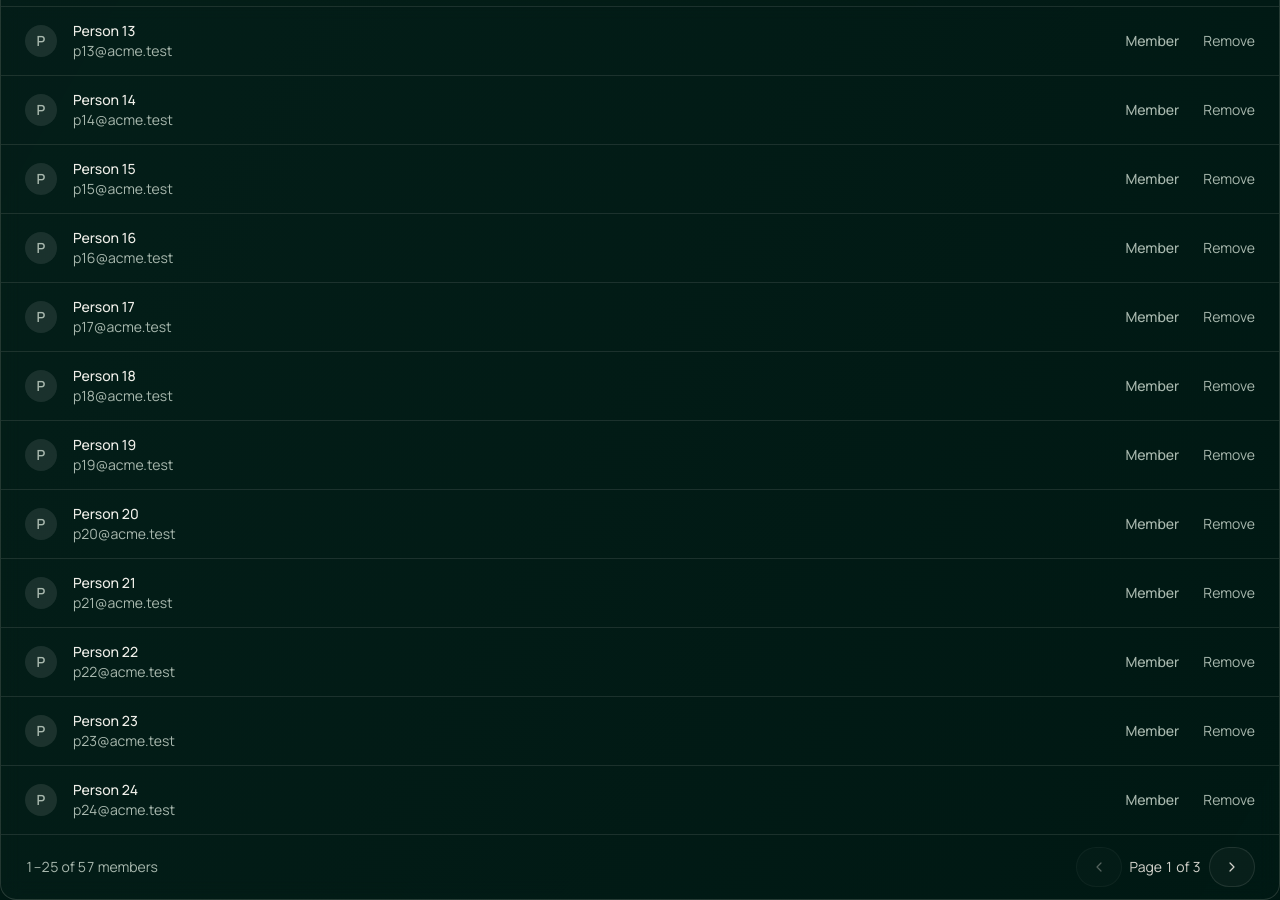
Test: Members list › lists every member a page at a time, not only the first 50
The width and height of the screenshot is (1280, 900).
(page scrolled)
Expected: the text "Page 1 of 3" is shown, left=1130, top=857, right=1201, bottom=877
Click the button named "Next page": (1232, 867) left=1209, top=847, right=1255, bottom=887
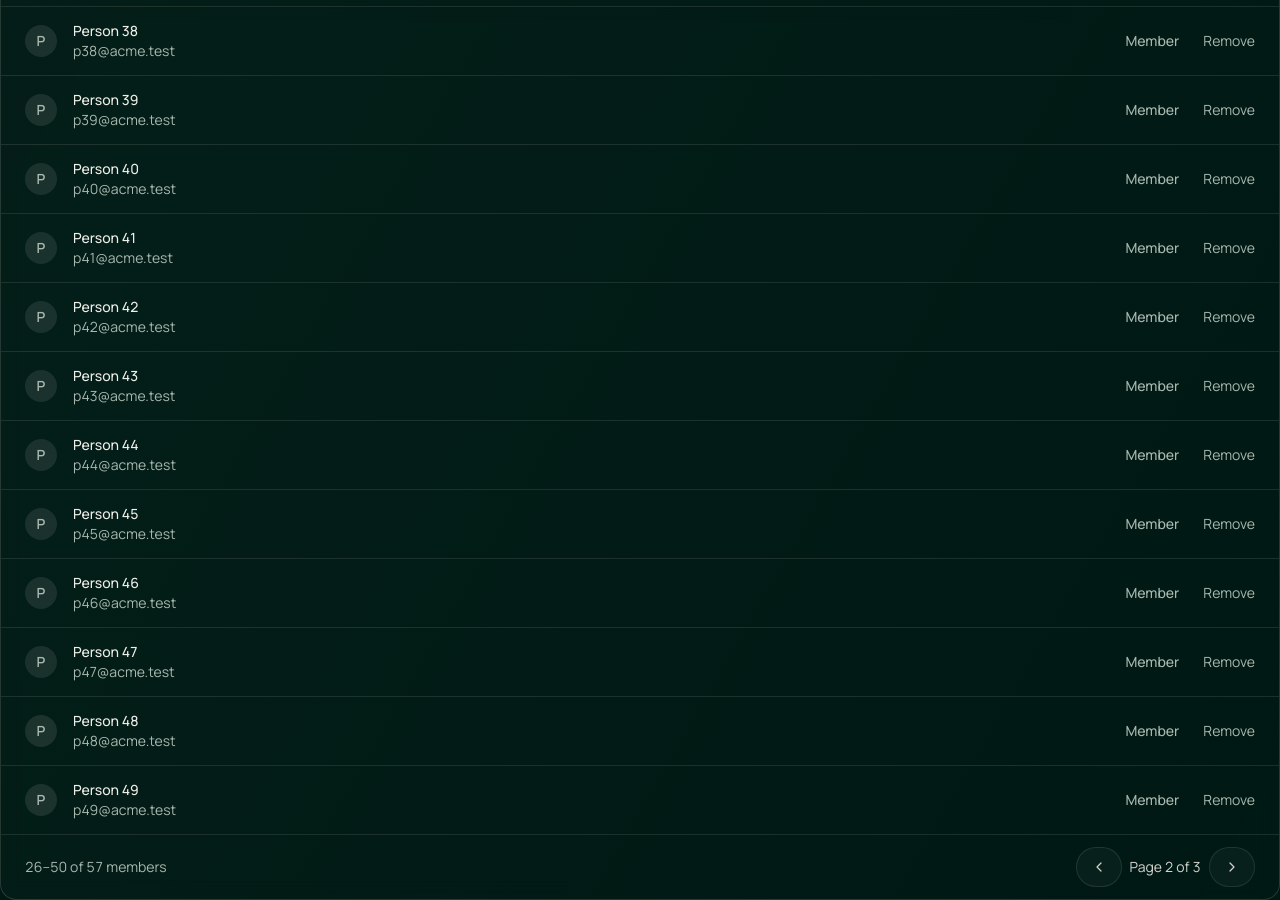
Click the button named "Next page": (1232, 867) left=1209, top=847, right=1255, bottom=887
(page scrolled)
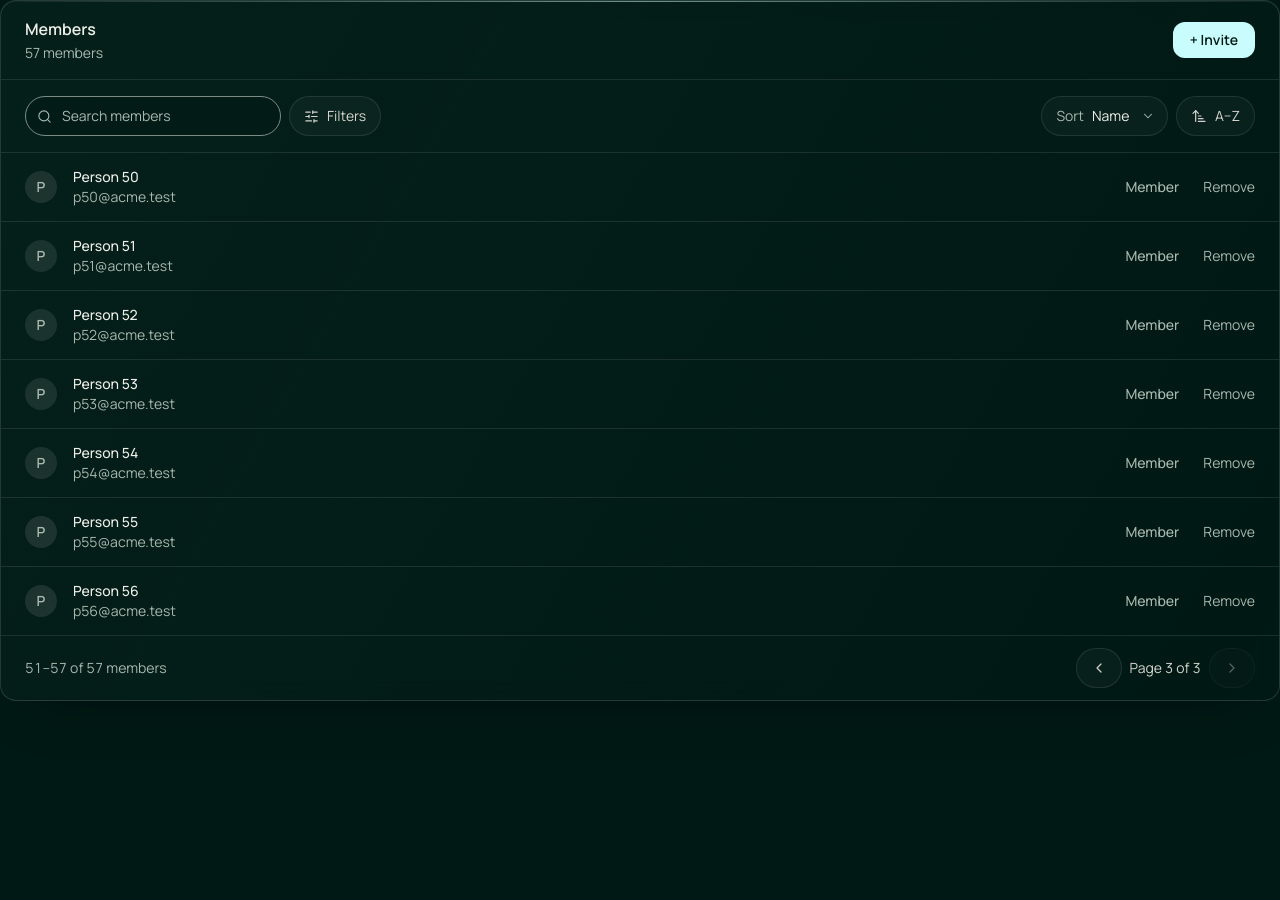
Now the text "Person 56" is shown, box left=73, top=581, right=139, bottom=600
Now the text "51–57 of 57 members" is shown, box left=25, top=658, right=167, bottom=678
